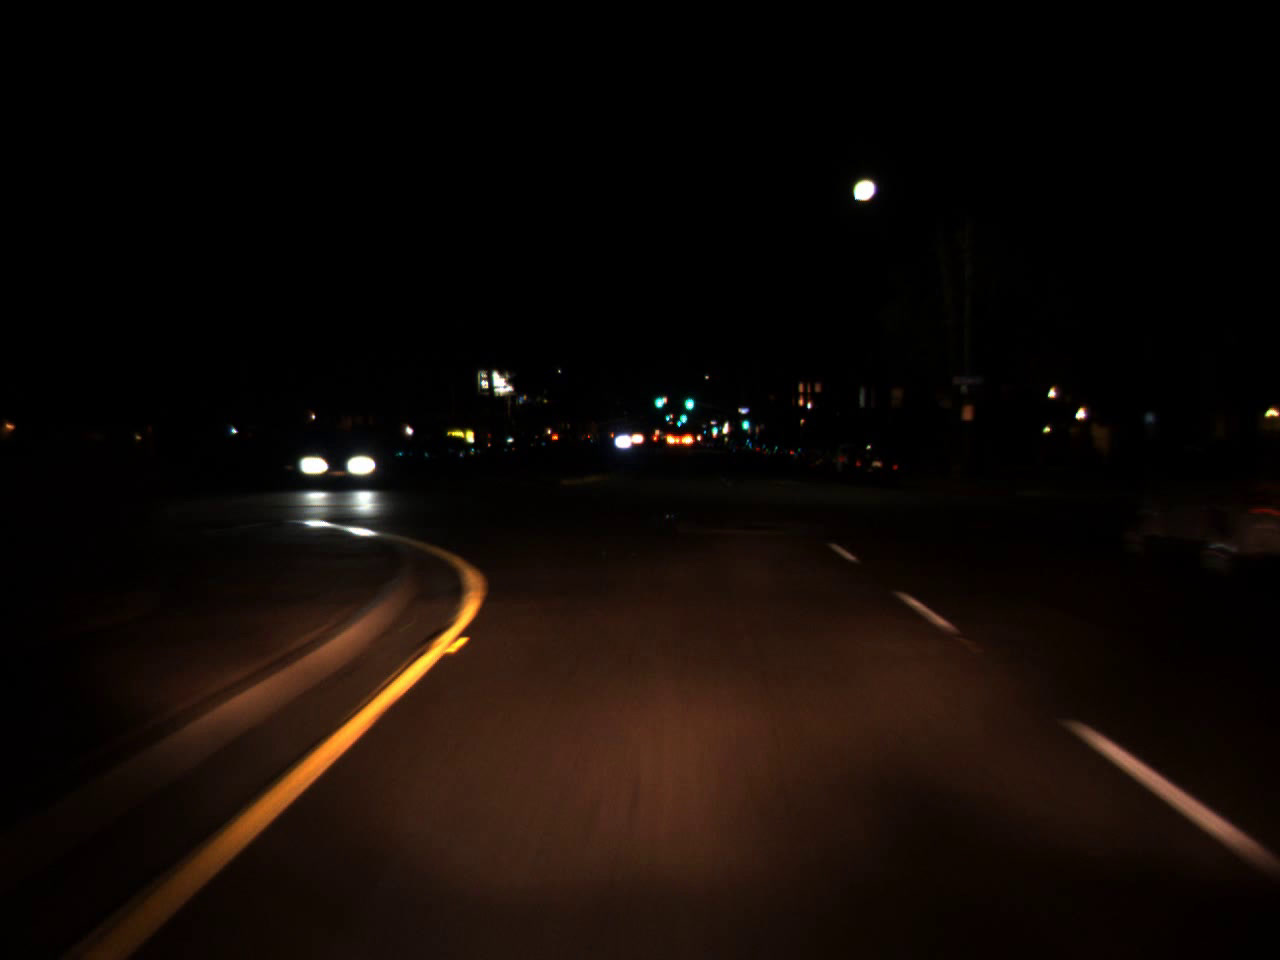go: (681, 385, 695, 415), (653, 387, 663, 411), (679, 405, 688, 426), (739, 414, 749, 432), (708, 422, 718, 434)
